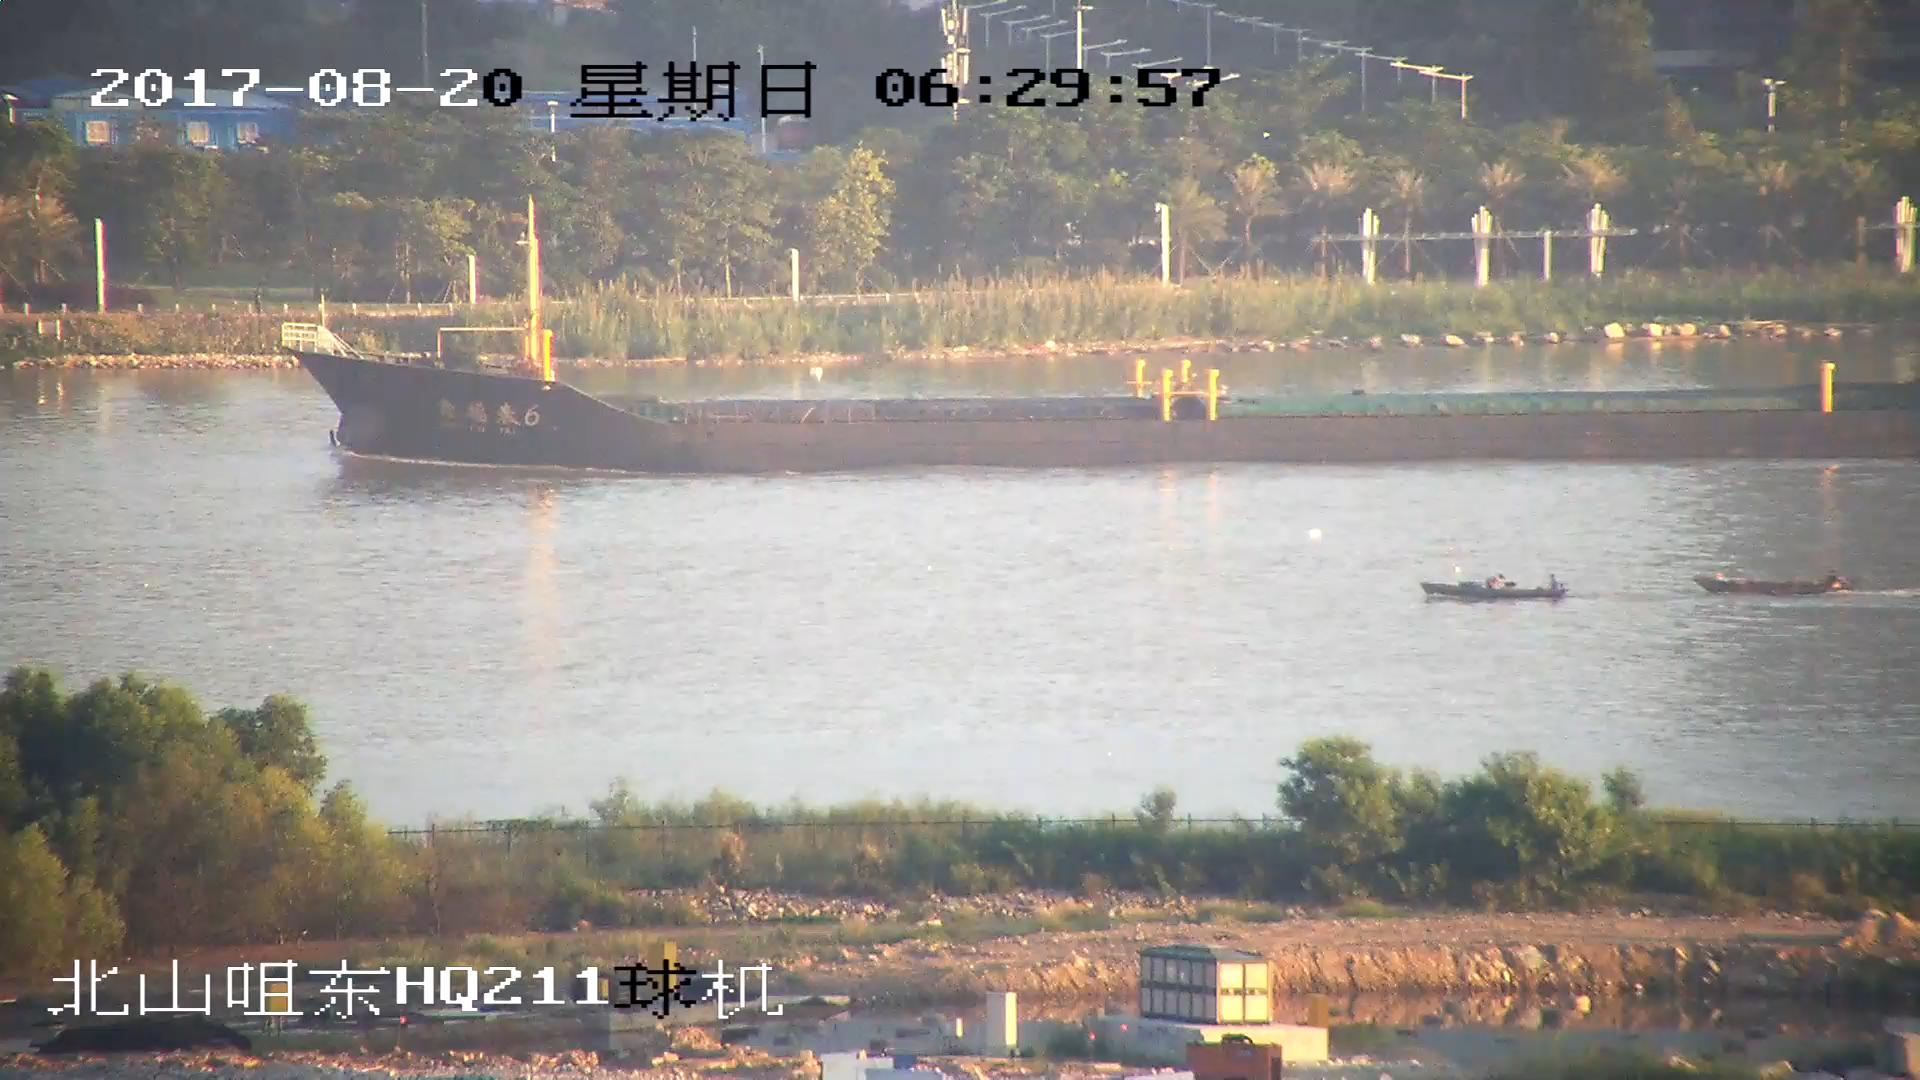fishing boat: (1695, 564, 1847, 600), (1429, 576, 1569, 606)
general cargo ship: (281, 226, 1920, 465)
